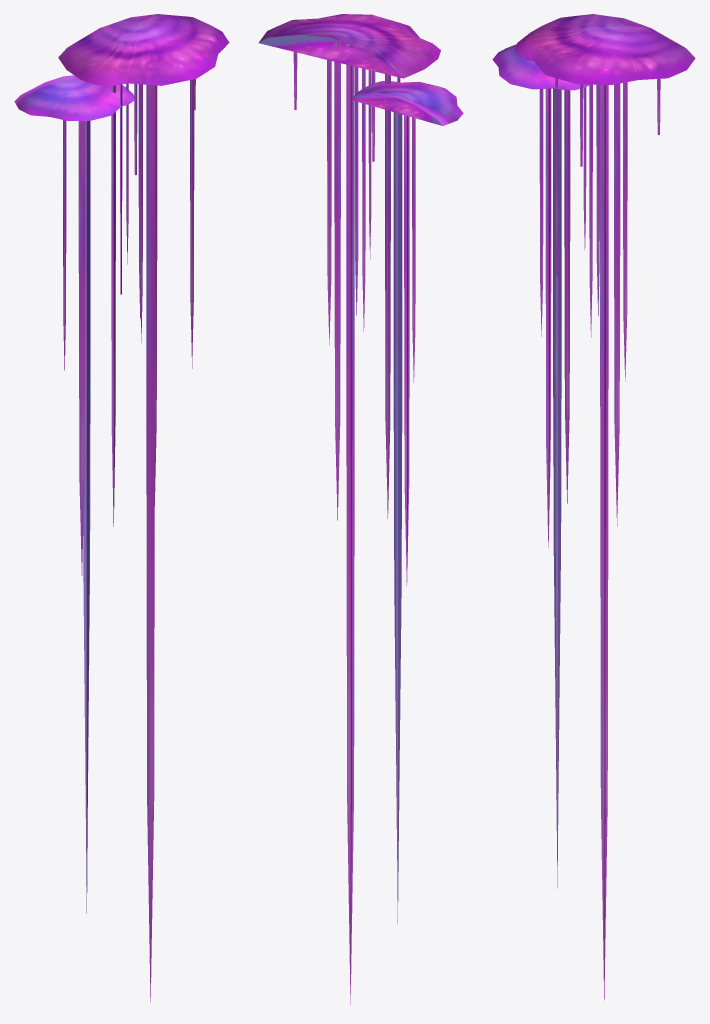
The model's file is h5_lingzhi_b.FBX.
3 renders of one model, left to right at view 1: azimuth 30°, elevation 25°; view 2: azimuth 150°, elevation 25°; view 3: azimuth 330°, elevation 25°, orthographic.
Parts seen in each view (by area): view 1: h5_lingzhi_b; view 2: h5_lingzhi_b; view 3: h5_lingzhi_b.
Boxes of the visible parts, left/top/right/bottom form: h5_lingzhi_b: left=14, top=14, right=229, bottom=1002; h5_lingzhi_b: left=258, top=14, right=463, bottom=1004; h5_lingzhi_b: left=492, top=14, right=695, bottom=1000.
Bounding box in the file's own units: 5.04 × 24.03 × 2.61.
Materials: 1 (1 with a texture image).
